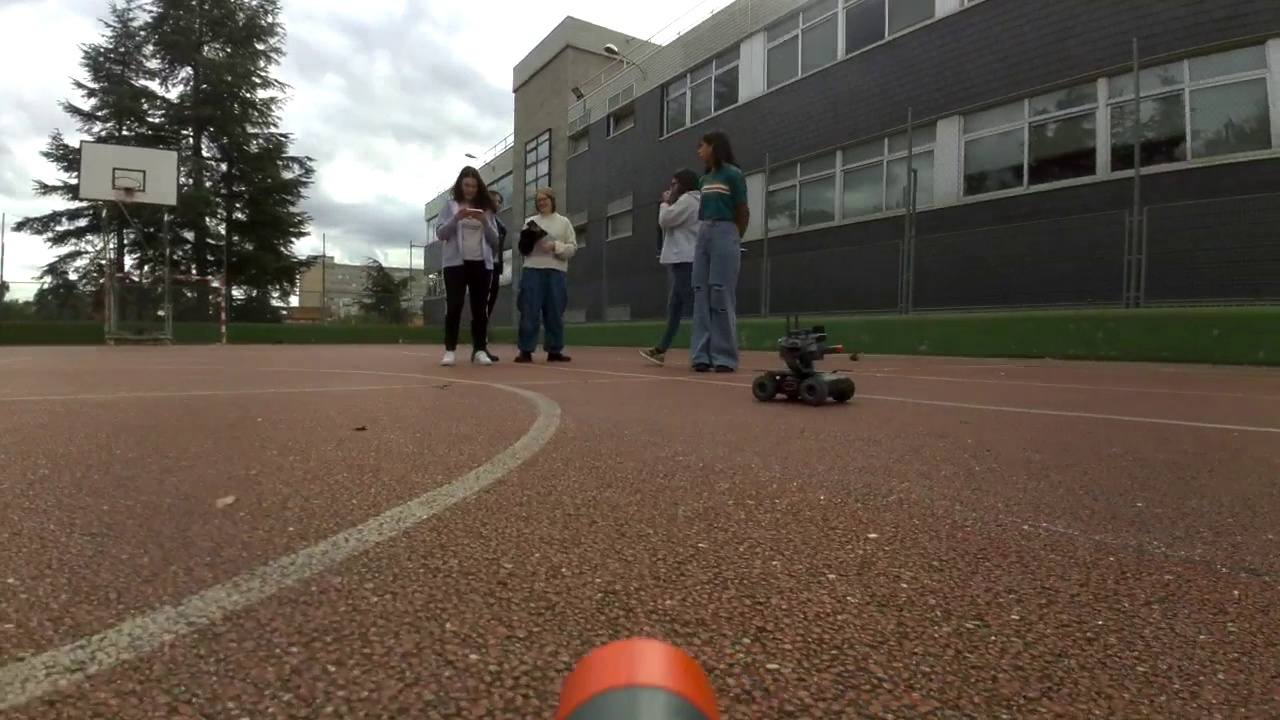robot: (753, 327, 855, 406)
